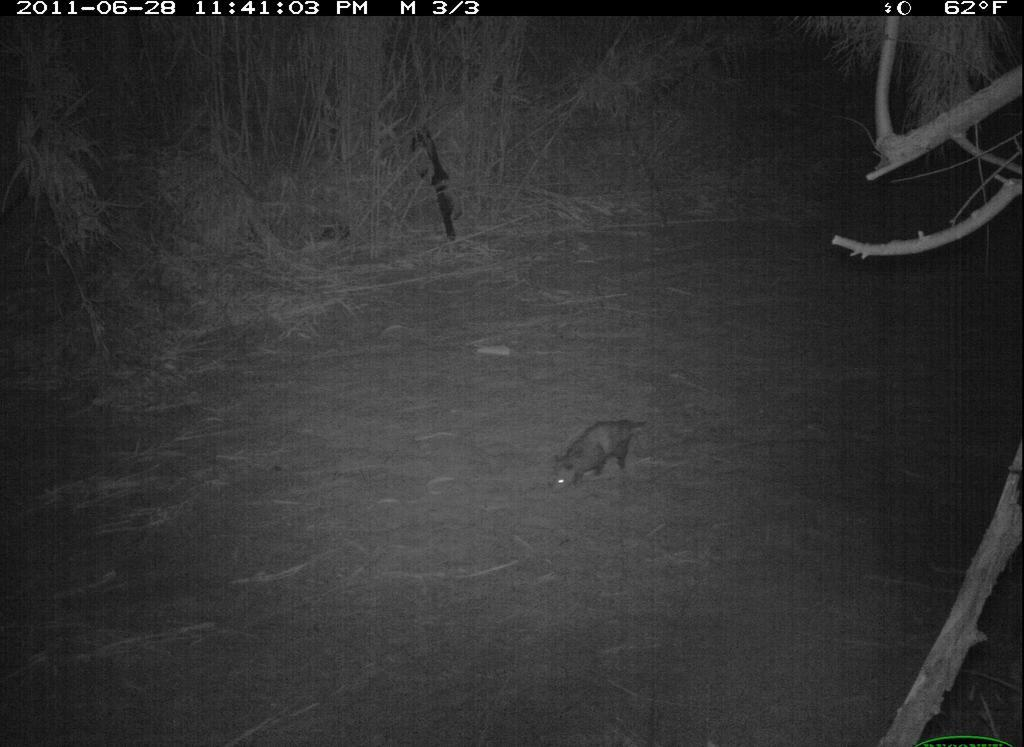opossum: (516, 395, 666, 510)
